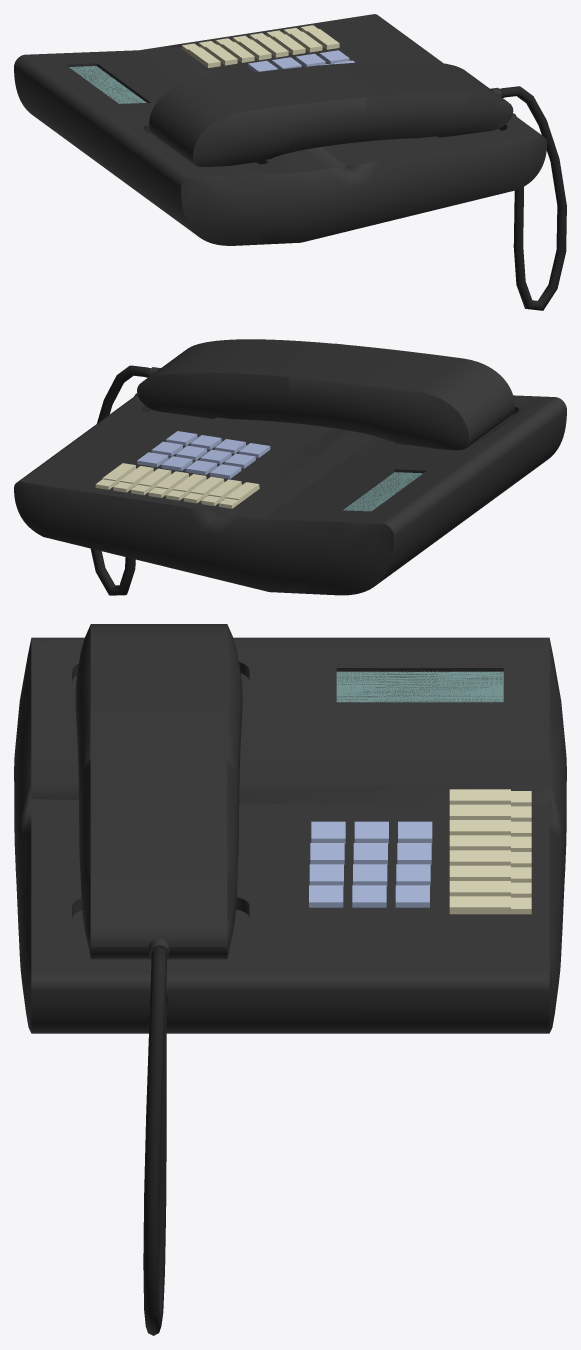
The model's file is phone.dae.
3 views of the same model, one above another, from view 1: azimuth 30°, elevation 25°; view 2: azimuth 150°, elevation 25°; view 3: azimuth 270°, elevation 25° (orthographic). The views are drawn at different scales.
Visible parts, largest first — view 1: group_4 (×2), group_2, group_1, group_0, Group_30 (×8); view 2: group_4 (×2), group_3, group_1, Group_30 (×8), group_0, group_7, group_6, group_13, group_14; view 3: group_4 (×3), group_1, Group_30 (×8), group_0, group_3, group_2.
Part boxes in pixels (bbox=[...]): group_4 (×2): bbox=[14, 14, 547, 245]; group_2: bbox=[193, 93, 513, 166]; group_1: bbox=[149, 61, 506, 165]; group_0: bbox=[500, 86, 566, 310]; Group_30 (×8): bbox=[181, 25, 339, 67]; group_4 (×2): bbox=[14, 394, 566, 595]; group_3: bbox=[137, 372, 468, 450]; group_1: bbox=[144, 339, 514, 448]; Group_30 (×8): bbox=[95, 463, 259, 508]; group_0: bbox=[90, 365, 150, 595]; group_7: bbox=[137, 452, 168, 467]; group_6: bbox=[161, 456, 192, 470]; group_13: bbox=[210, 464, 241, 478]; group_14: bbox=[185, 460, 217, 475]; group_4 (×3): bbox=[14, 637, 566, 1033]; group_1: bbox=[90, 624, 227, 959]; Group_30 (×8): bbox=[449, 789, 531, 914]; group_0: bbox=[143, 947, 166, 1335]; group_3: bbox=[227, 624, 242, 958]; group_2: bbox=[75, 625, 90, 957].
Bounding box in the file's own units: 13.5 × 9.81 × 8.89.
